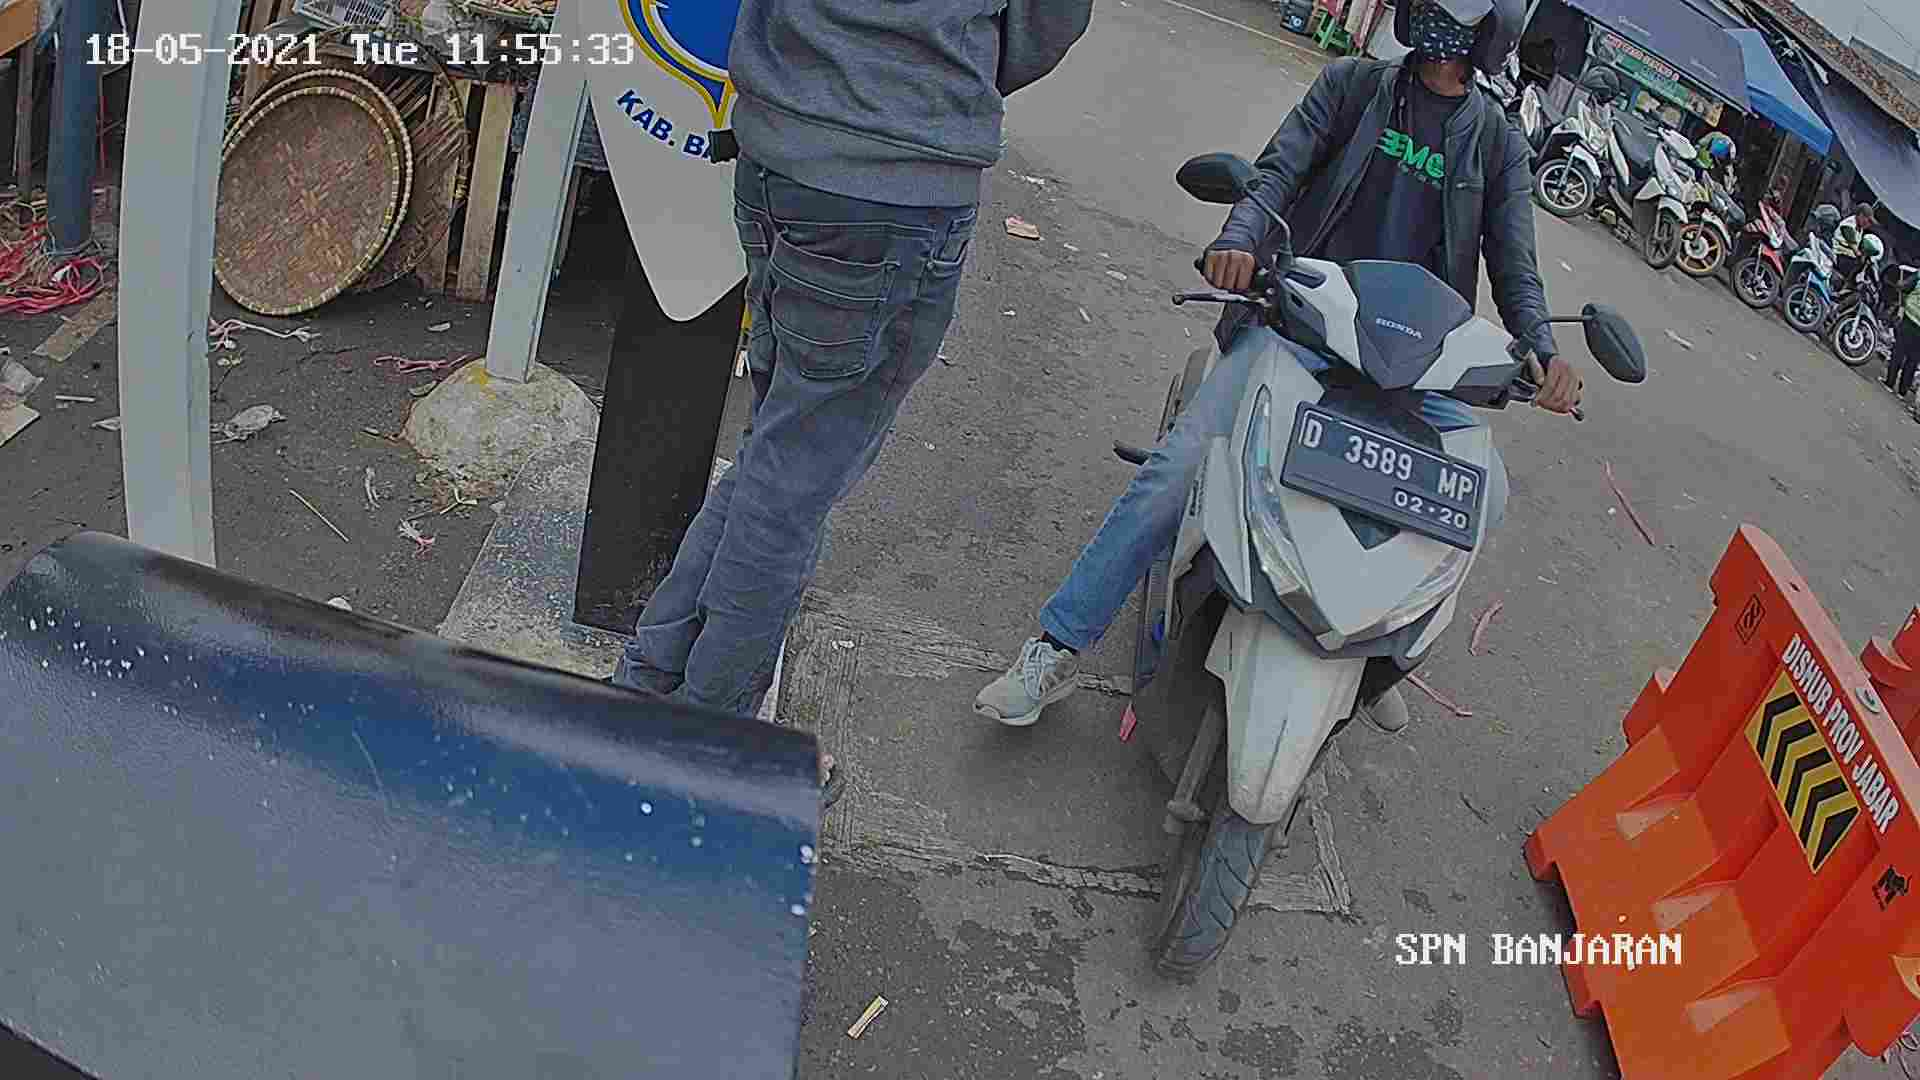motor: (1083, 253, 1545, 982)
